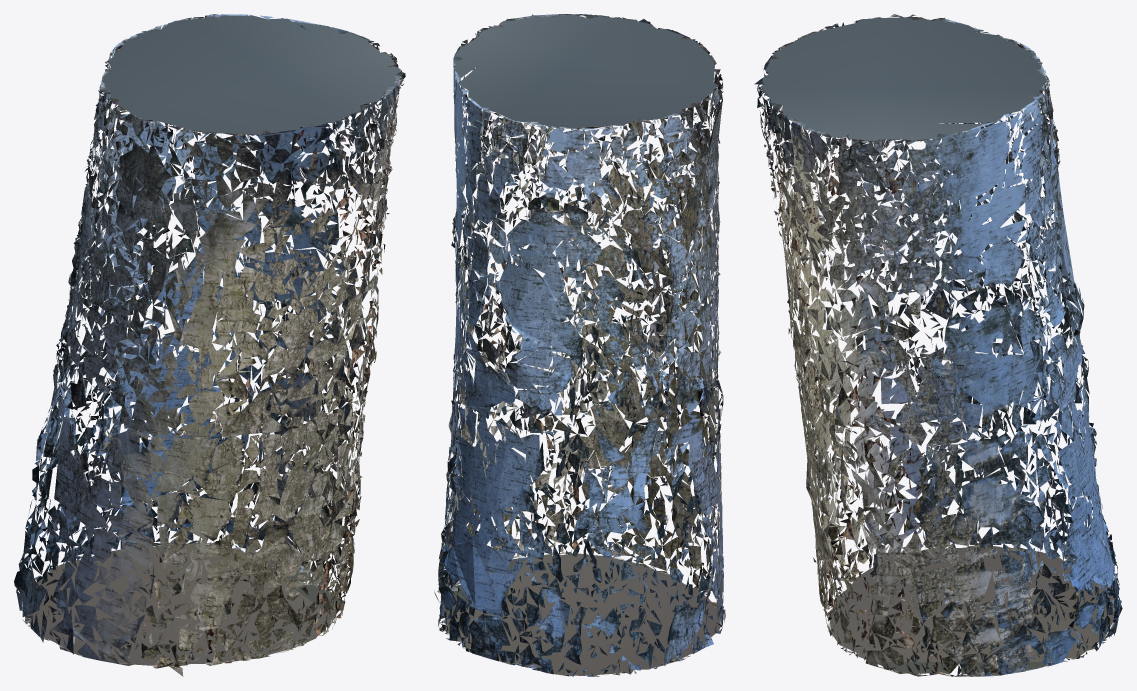
The picture shows the model from 3 angles, left to right: view 1: azimuth 30°, elevation 25°; view 2: azimuth 150°, elevation 25°; view 3: azimuth 270°, elevation 25°; orthographic projection. The views are drawn at different scales.
Parts seen in each view (by area): view 1: model; view 2: model; view 3: model.
Part boxes in pixels (x1,y1,x2,y2): model: (14, 14, 405, 676); model: (434, 14, 725, 676); model: (754, 14, 1122, 676).
Bounding box in the file's own units: 0.2548 × 0.4389 × 0.2675.
1 material, 1 textured.
